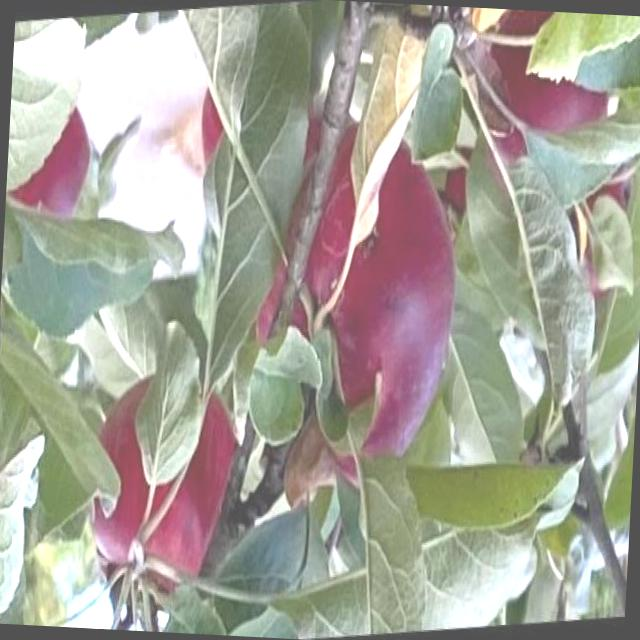Apple: (238, 109, 472, 502), (84, 362, 245, 607), (464, 8, 618, 185), (7, 100, 97, 223)
